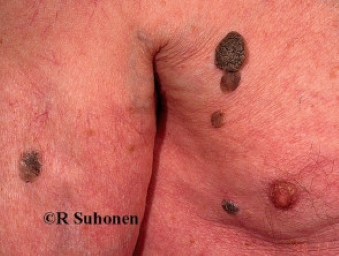seborrheic keratosis: (165, 16, 277, 148)
